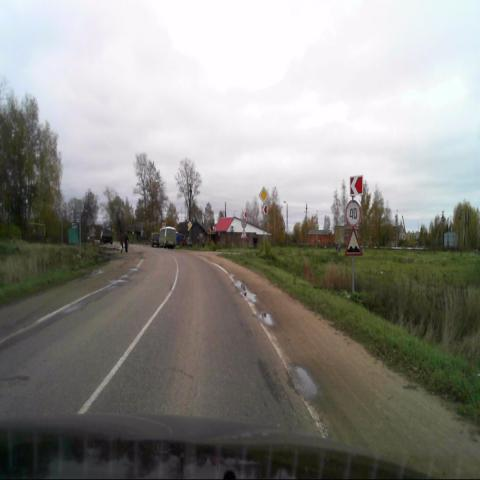1_16: (344, 228, 362, 257)
